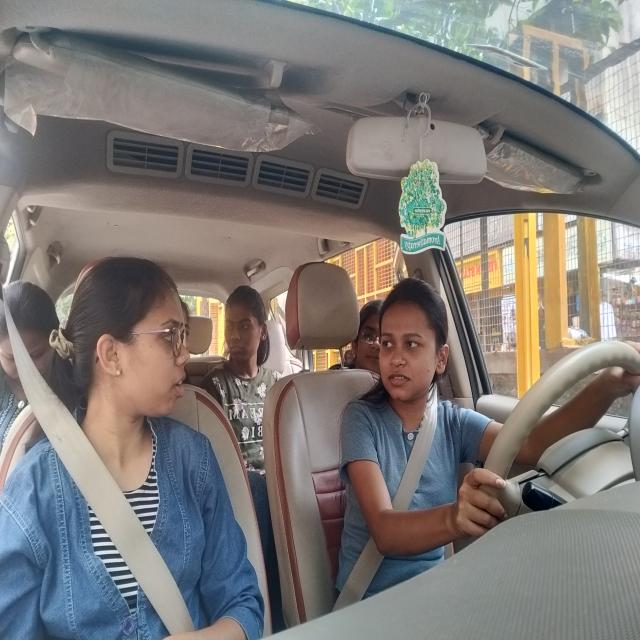LeftRight: (378, 283, 449, 408)
person: (69, 255, 195, 412), (3, 281, 62, 389), (222, 286, 272, 369), (356, 290, 387, 369)
talking: (168, 369, 188, 402), (388, 370, 414, 390)
